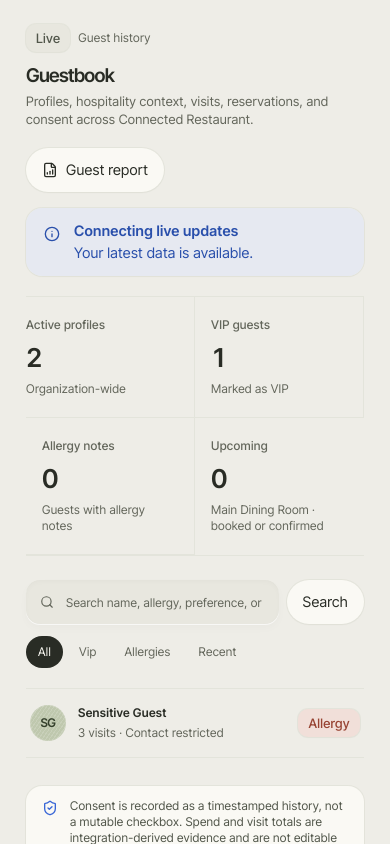
Test: connected CRM guest merge review › keeps contact data and management actions out of a sensitive-only workspace
Expected: the field with placeholder "Search name, allergy, preference, or note" is shown, [26,580,278,624]
Expected: the text "3 visits · Contact restricted" is shown, [78,725,224,740]
Step 1. Click the text "Sensitive Guest" → (122, 713), box [78,705,167,721]
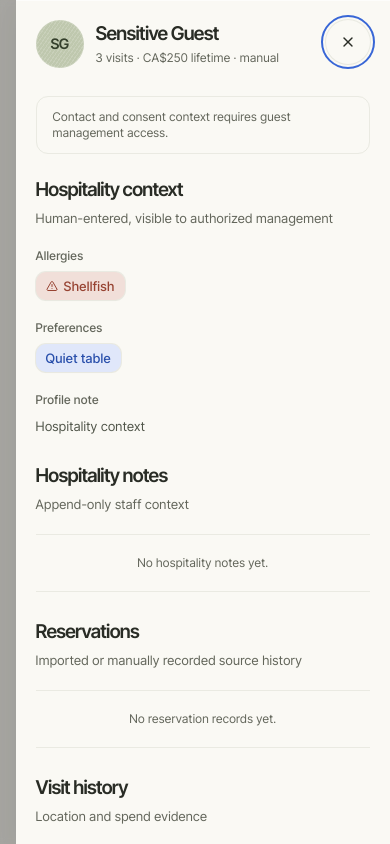
Expected: the text "Contact and consent context requires guest management access." is shown, [36,96,370,154]
